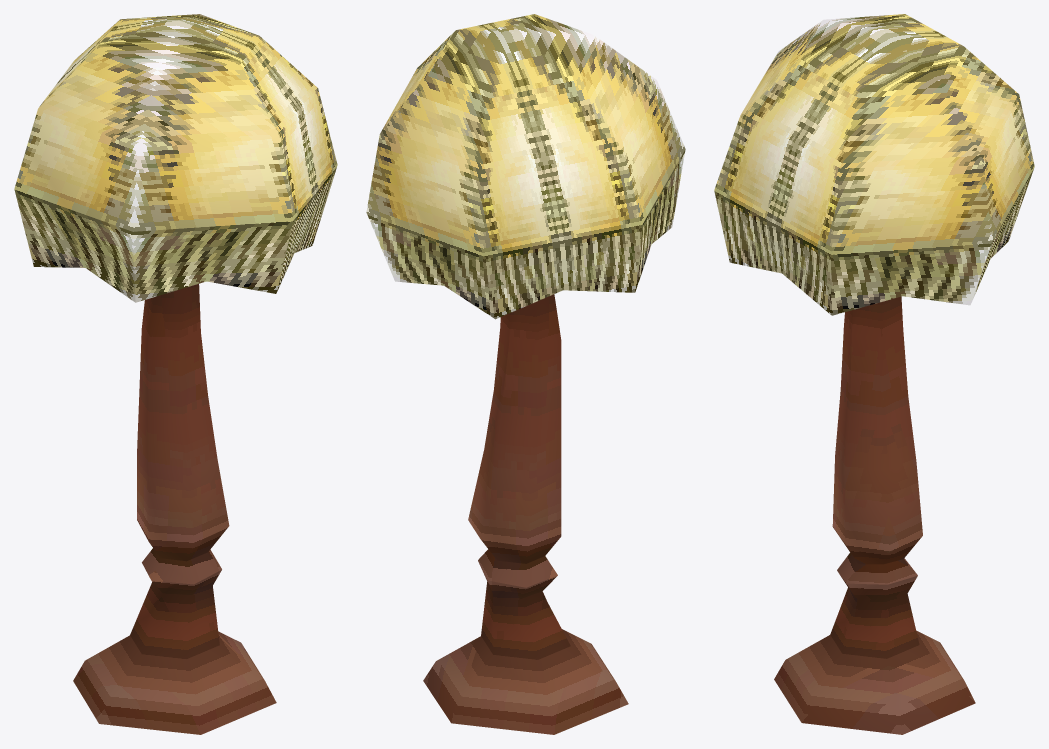
Rendered from suta34_1.glb.
3 renders of one model, left to right at view 1: azimuth 30°, elevation 25°; view 2: azimuth 150°, elevation 25°; view 3: azimuth 270°, elevation 25°, orthographic.
Parts seen in each view (by area): view 1: suta34_1; view 2: suta34_1; view 3: suta34_1.
Part boxes in pixels (x1,y1,x2,y2): suta34_1: (14, 14, 337, 734); suta34_1: (366, 14, 685, 734); suta34_1: (714, 14, 1034, 734).
Size of the model in its own units: 164 by 373 by 163.
2 materials, 2 textured.
